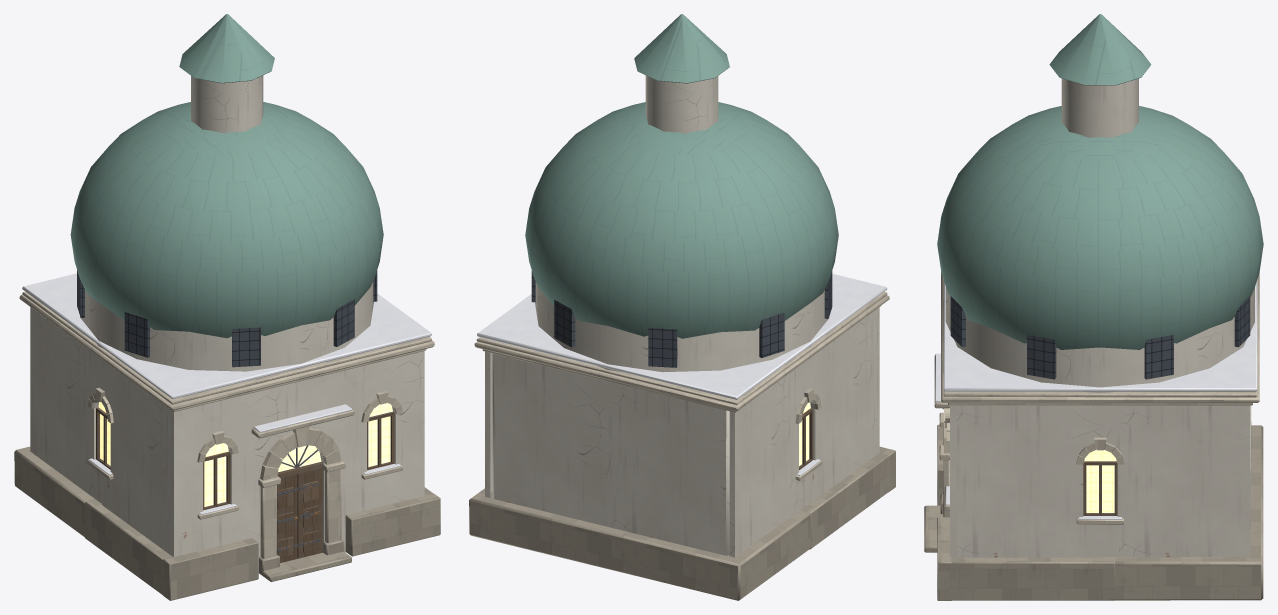
Rendered from st_adalbert.glb.
3 renders of one model, left to right at view 1: azimuth 30°, elevation 25°; view 2: azimuth 150°, elevation 25°; view 3: azimuth 270°, elevation 25°, orthographic. The views are drawn at different scales.
Visible parts, largest first — view 1: st_adalbert; view 2: st_adalbert; view 3: st_adalbert.
Boxes of the visible parts, x1,y1,x2,y2 form: st_adalbert: (14, 14, 440, 600); st_adalbert: (469, 14, 895, 600); st_adalbert: (924, 14, 1263, 600).
Size of what is drawn, in the model's own units: 7.61 by 13.3 by 7.9.
Materials: 9 (9 with a texture image).
